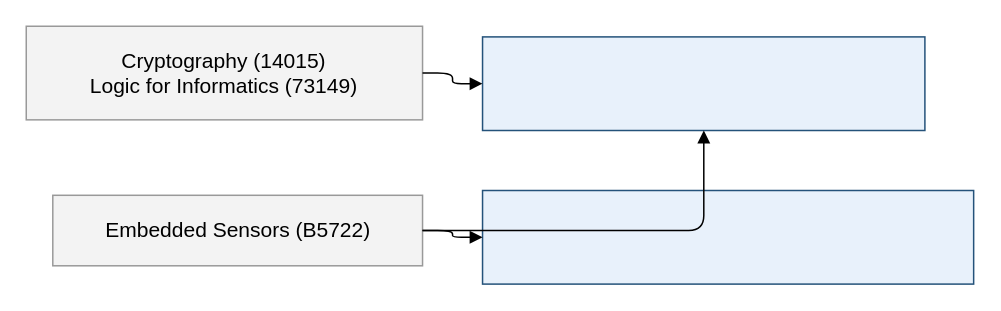
The diagram is 1001 pixels wide and 311 high, and some of its shapes have lost their labels. The shapes that lost their labels are listed below. From the top down, each one's box as (x1, y1, x2, y2) in pixels, then its label:
(481, 35, 925, 130): Sensor Measurement Foundations 3 ECTS
(481, 189, 974, 284): Sensor Data Analysis and Applications 3 ECTS
